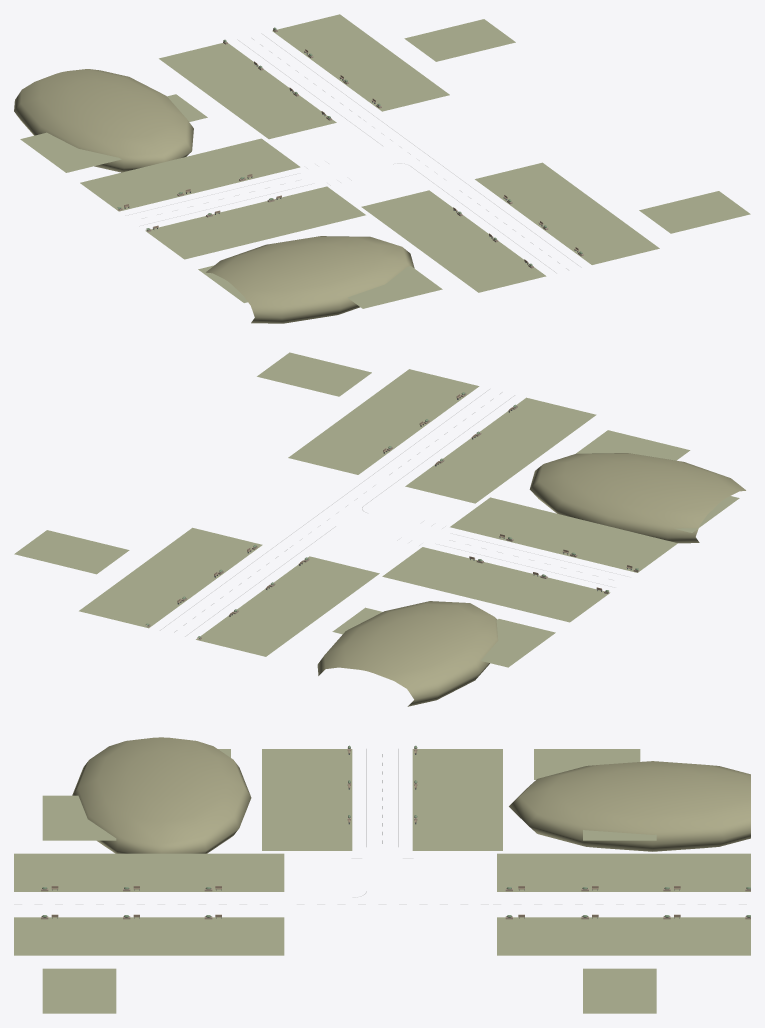
3 renders of one model, top to bottom at view 1: azimuth 30°, elevation 25°; view 2: azimuth 150°, elevation 25°; view 3: azimuth 270°, elevation 25°, orthographic. The views are drawn at different scales.
Visible parts, largest first — view 1: static; view 2: static; view 3: static.
Part boxes in pixels (x1,y1,x2,y2): static: [14, 14, 750, 323]; static: [14, 352, 745, 706]; static: [14, 737, 750, 1013].
Size of what is drawn, in the model's own units: 153 by 14.08 by 180.
